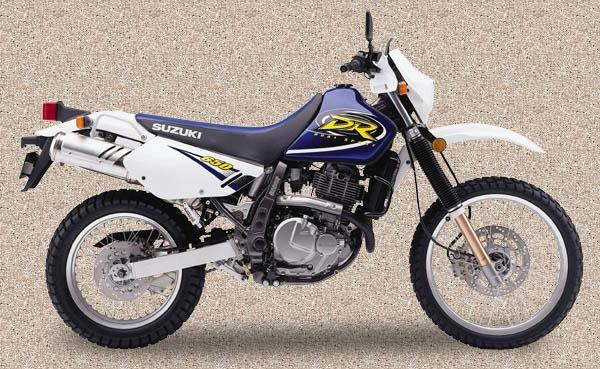Motorcycle: (17, 4, 591, 353)
